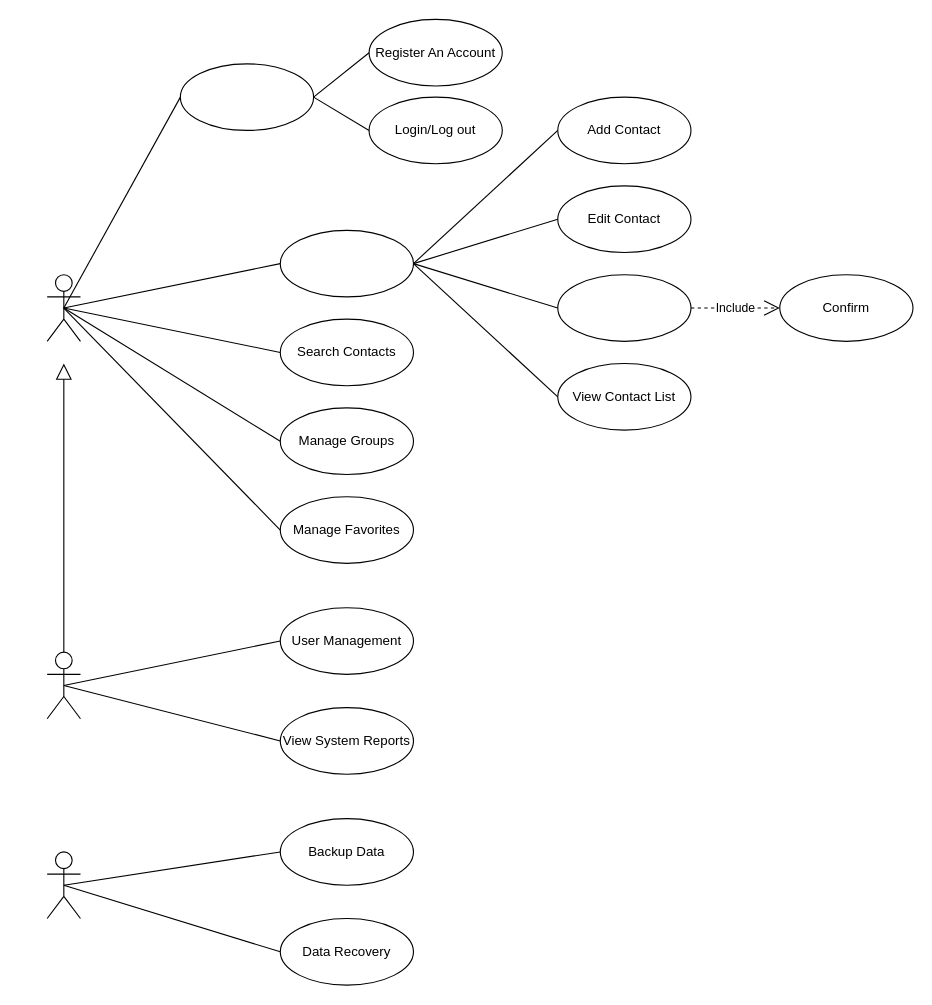
Image size: 932x1005. Some labels were removed from this diagram. The centre of each missing label's shape, as x and y in pixels:
"Admin" belongs at [63,685].
"Backup system" belongs at [63,885].
"Contacts Management" belongs at [346,263].
"Delete Contact" belongs at [624,307].
"Manage User Account" belongs at [246,96].
"User" belongs at [63,307].
